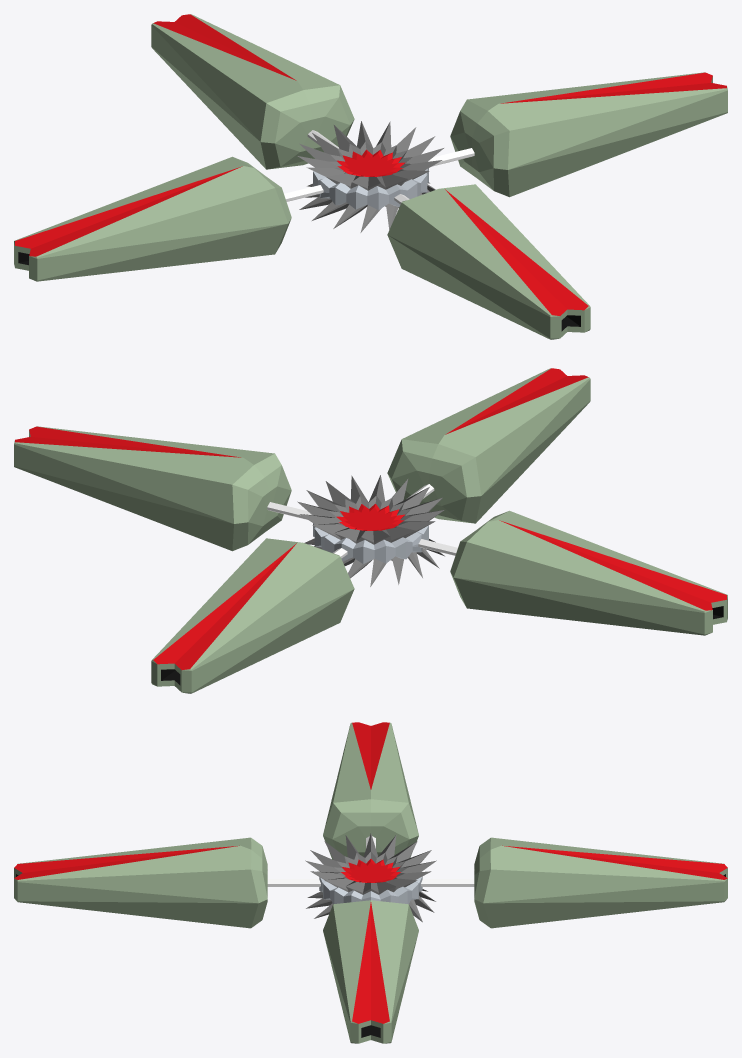
The model's file is Enemy_00_x4.fbx.
3 renders of one model, top to bottom at view 1: azimuth 30°, elevation 25°; view 2: azimuth 150°, elevation 25°; view 3: azimuth 270°, elevation 25°, orthographic. The views are drawn at different scales.
Parts seen in each view (by area): view 1: Enemy_00_x4; view 2: Enemy_00_x4; view 3: Enemy_00_x4.
Part boxes in pixels (x1,y1,x2,y2): Enemy_00_x4: (14, 14, 727, 339); Enemy_00_x4: (14, 368, 727, 693); Enemy_00_x4: (14, 722, 727, 1043).
Bounding box in the file's own units: 1379 × 159 × 1379.
